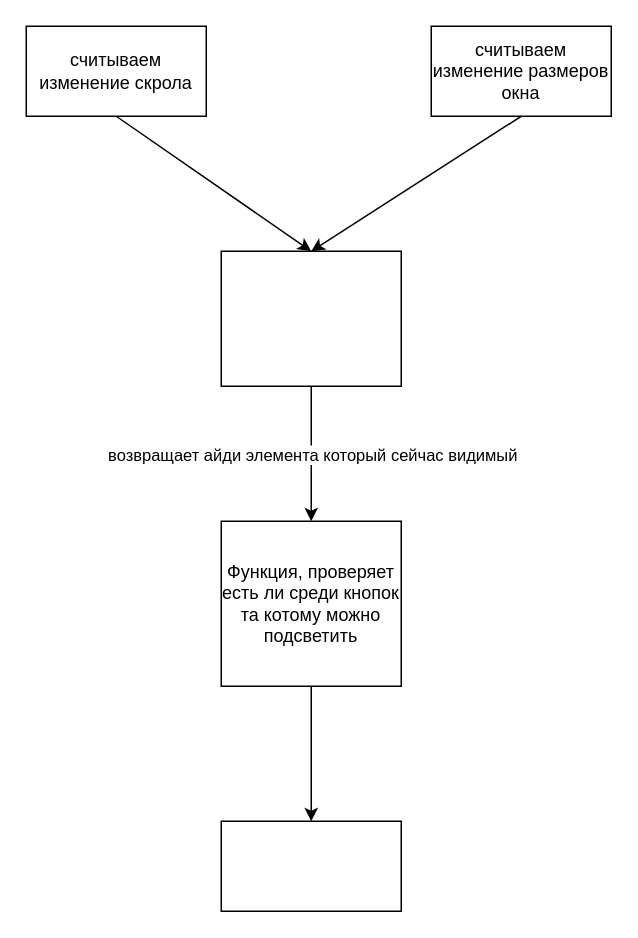
This 638x938 diagram has some shape labels left out. Each missing label, with the centre of its shape:
"фукнция расчитывает какой сейчас элемент является видимым" belongs at point (310, 318).
"фунукция которая подсвечивает элемент и гасит все остальные" belongs at point (310, 865).
